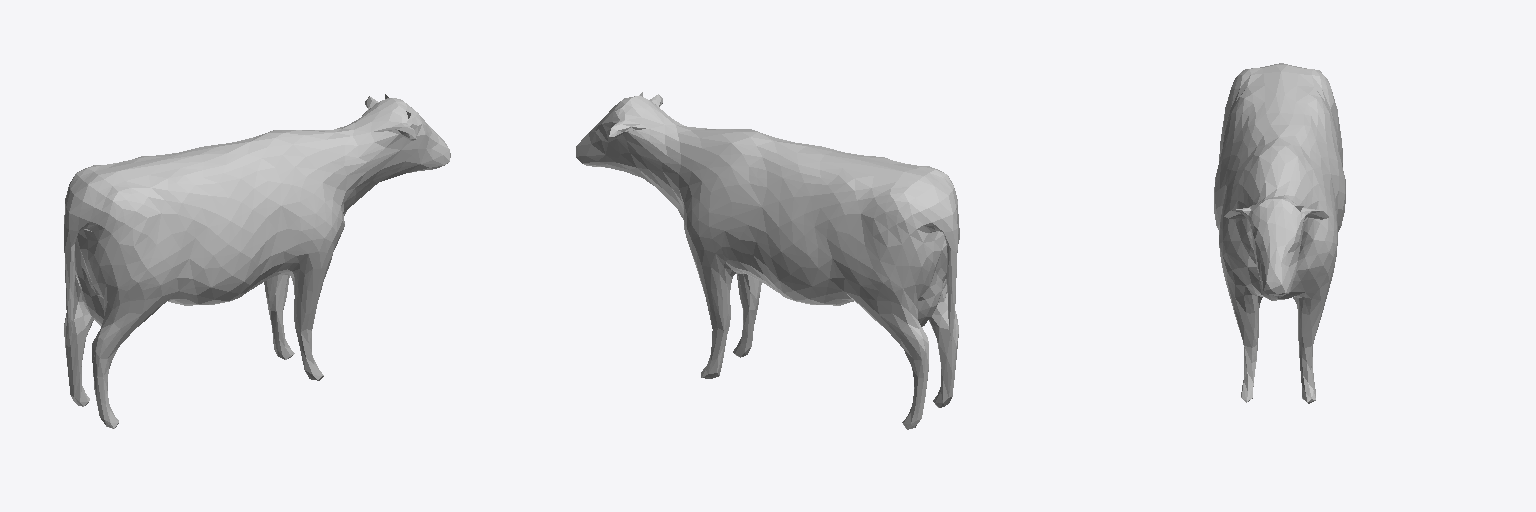
The model's file is cowMaya.obj.
3 views of the same model, side by side, from view 1: azimuth 30°, elevation 25°; view 2: azimuth 150°, elevation 25°; view 3: azimuth 270°, elevation 25° (orthographic).
Visible parts, largest first — view 1: cow:grp1; view 2: cow:grp1; view 3: cow:grp1.
Boxes of the visible parts, box(x1,y1,x2,y2) form: cow:grp1: box(64, 94, 450, 428); cow:grp1: box(576, 92, 959, 429); cow:grp1: box(1214, 63, 1345, 403).
Size of the model in its own units: 46.34 by 28.8 by 13.95.